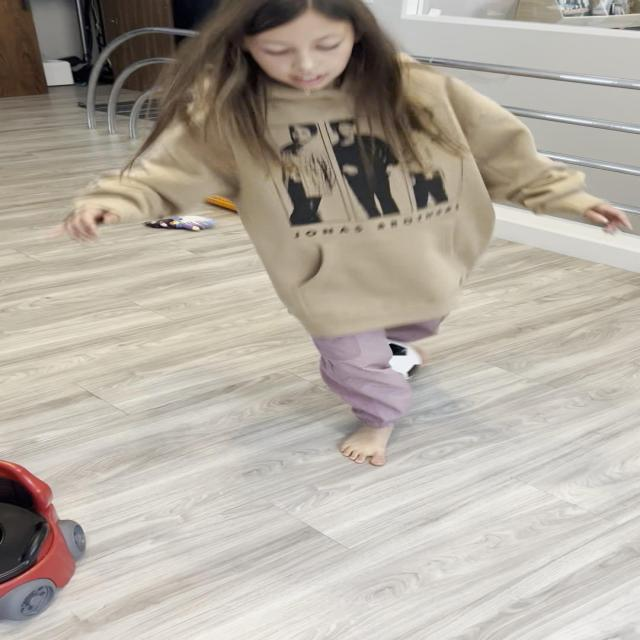Soccer Ball: (338, 338, 424, 386)
